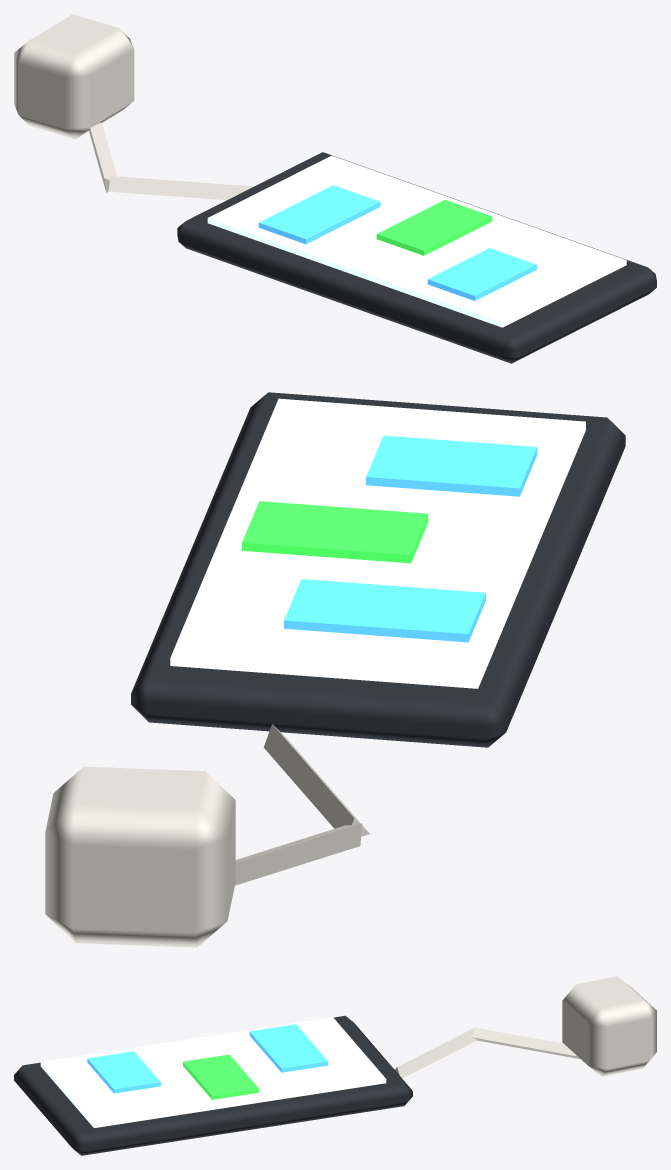
The model's file is station_transport_ausstattung_3_1.glb.
The picture shows the model from 3 angles, top to bottom: view 1: azimuth 30°, elevation 25°; view 2: azimuth 150°, elevation 25°; view 3: azimuth 270°, elevation 25°; orthographic projection. The views are drawn at different scales.
Visible parts, largest first — view 1: station_transport_ausstattung_3_1; view 2: station_transport_ausstattung_3_1; view 3: station_transport_ausstattung_3_1.
Boxes of the visible parts, x1,y1,x2,y2 form: station_transport_ausstattung_3_1: (14,14,656,363); station_transport_ausstattung_3_1: (45,392,625,947); station_transport_ausstattung_3_1: (14,976,656,1155).
Bounding box in the file's own units: 0.1946 × 0.05 × 0.422.
